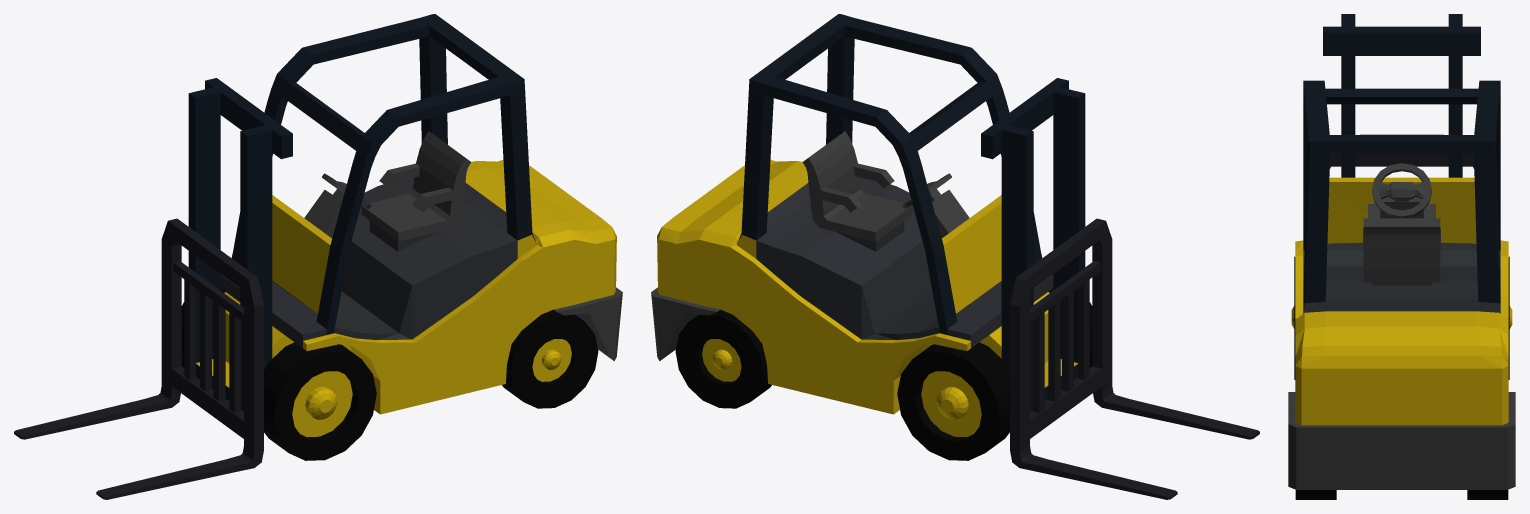
The model's file is forkLift.obj.
3 views of the same model, side by side, from view 1: azimuth 30°, elevation 25°; view 2: azimuth 150°, elevation 25°; view 3: azimuth 270°, elevation 25° (orthographic). The views are drawn at different scales.
Parts seen in each view (by area): view 1: Circle; view 2: Circle; view 3: Circle.
Part boxes in pixels (box(x1,y1,x2,y2)): Circle: box(14, 14, 622, 499); Circle: box(651, 14, 1259, 499); Circle: box(1288, 14, 1515, 499).
Bounding box in the file's own units: 351 × 216 × 130.
